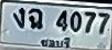letters: (10, 6, 27, 30), (28, 7, 45, 31), (83, 11, 97, 35), (55, 8, 68, 33), (98, 11, 111, 36), (69, 10, 83, 33)
province: (39, 35, 71, 49)
